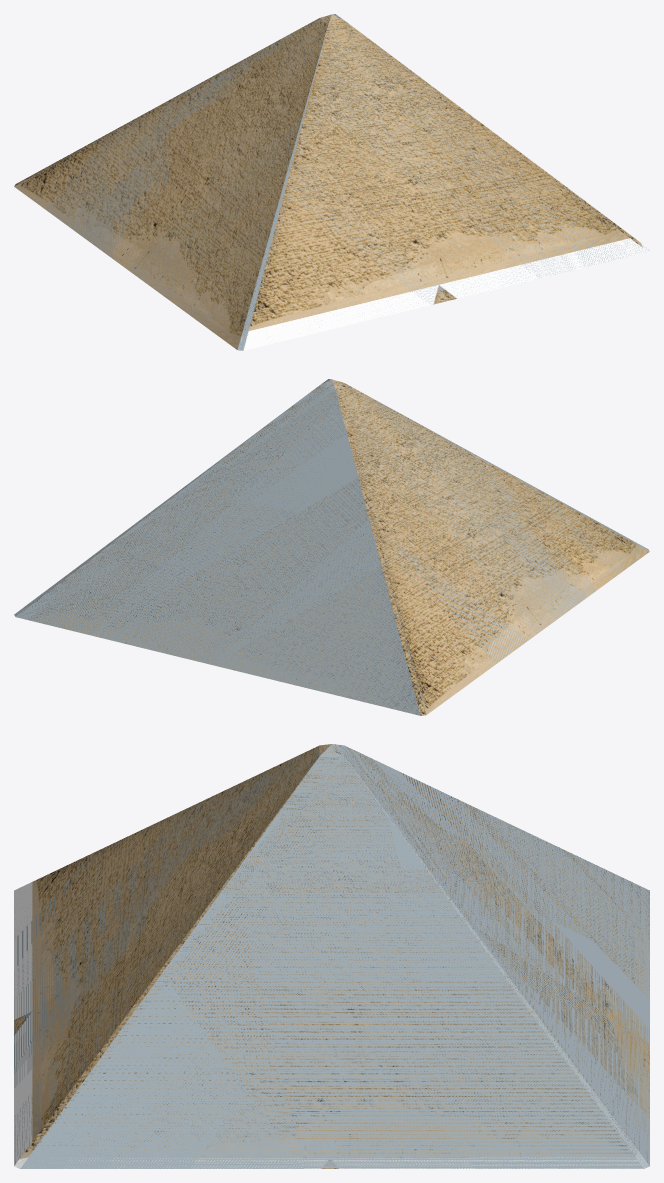
Rendered from TheRedPyramid.obj.
The picture shows the model from 3 angles, top to bottom: view 1: azimuth 30°, elevation 25°; view 2: azimuth 150°, elevation 25°; view 3: azimuth 270°, elevation 25°; orthographic projection. The views are drawn at different scales.
Parts seen in each view (by area): view 1: Mesh1 The_Red_Pyramid__Dahshur1 Model; view 2: Mesh1 The_Red_Pyramid__Dahshur1 Model; view 3: Mesh1 The_Red_Pyramid__Dahshur1 Model.
Part boxes in pixels (x1,y1,x2,y2): Mesh1 The_Red_Pyramid__Dahshur1 Model: (14,14,649,350); Mesh1 The_Red_Pyramid__Dahshur1 Model: (14,379,649,715); Mesh1 The_Red_Pyramid__Dahshur1 Model: (14,744,649,1168).
Size of the model in its own units: 220 by 104 by 211.
